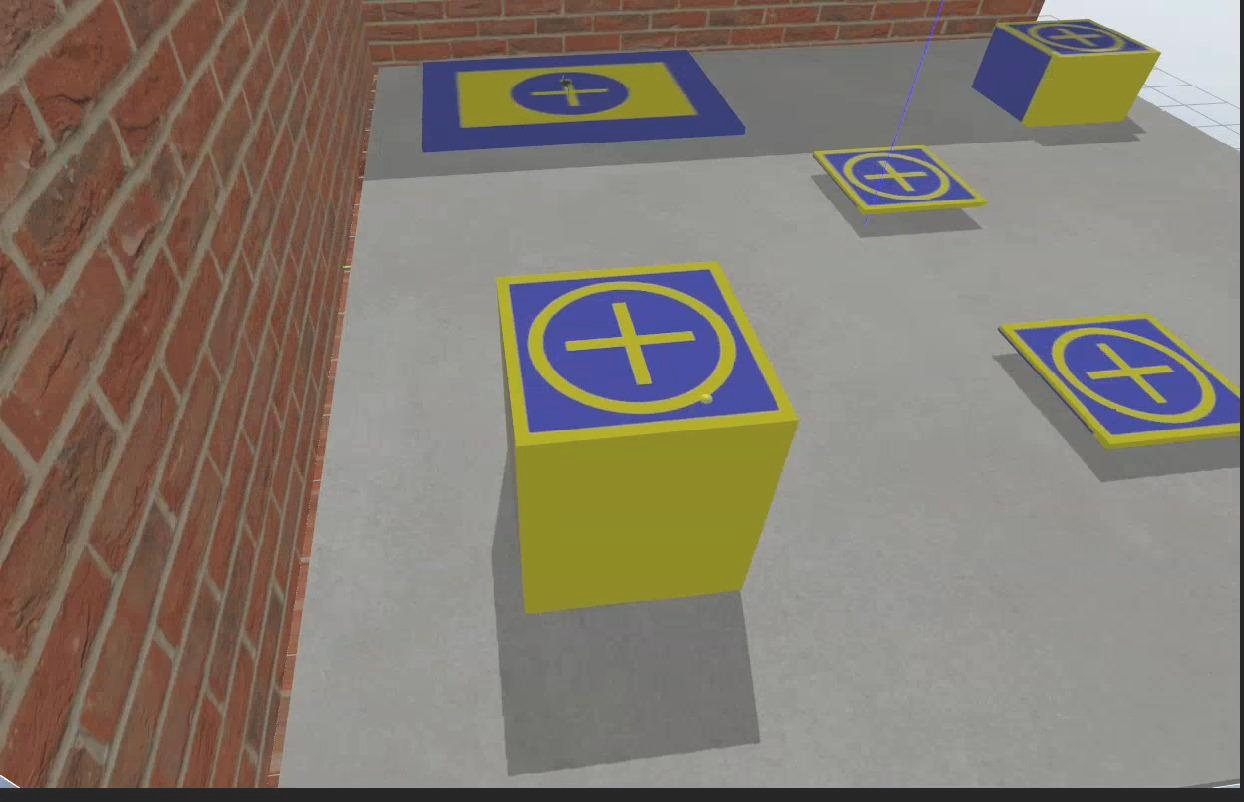large_base: (421, 51, 753, 148)
small_base: (497, 263, 799, 447), (999, 315, 1244, 450), (816, 144, 984, 216), (994, 15, 1163, 67)
